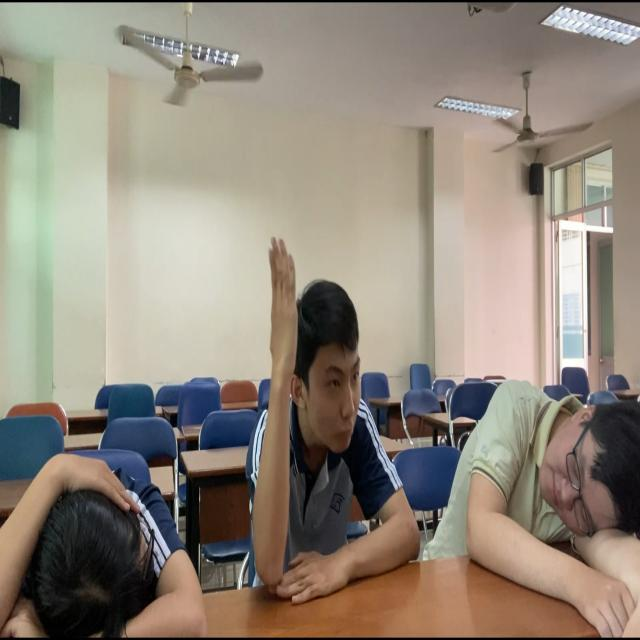raise_hand: (244, 233, 428, 595)
sleep: (439, 368, 640, 638), (1, 448, 209, 640)
